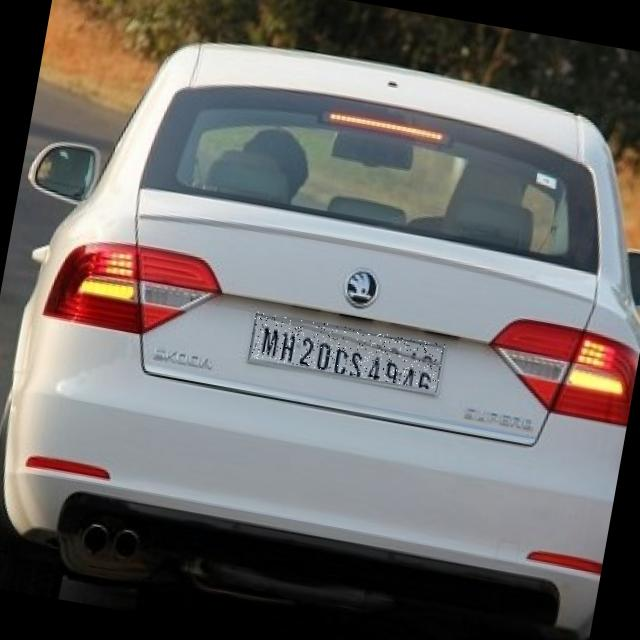Plate: (249, 312, 446, 392)
